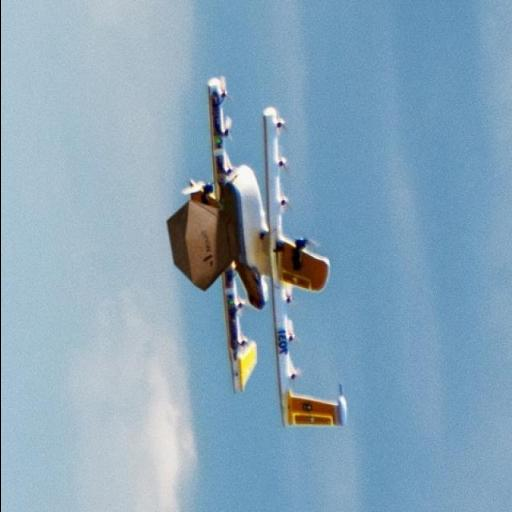uav: (149, 56, 357, 438)
